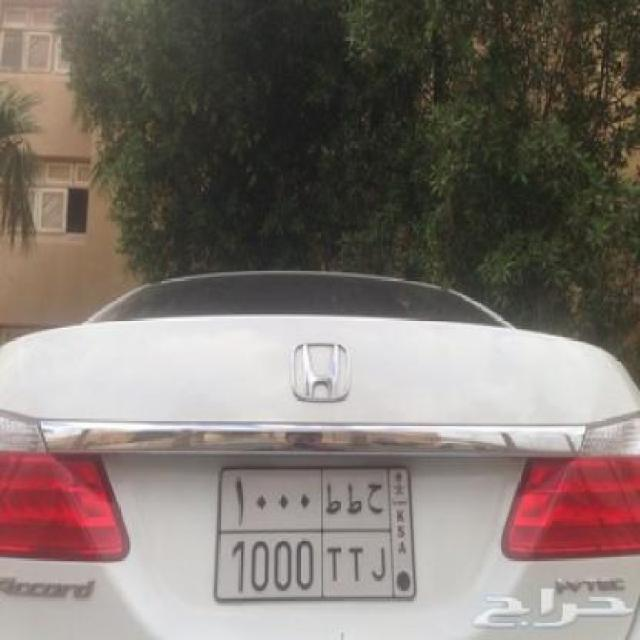license_plate: (214, 463, 418, 606)
